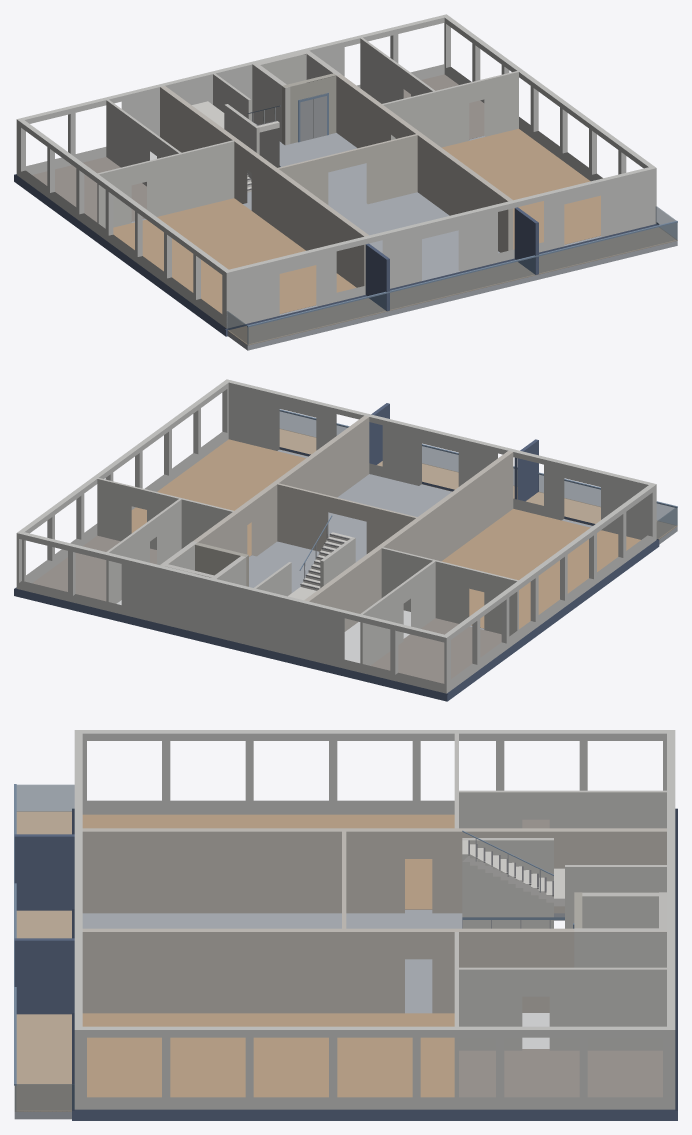
Rendered from office-floor.gaps-v1.lod0.glb.
3 renders of one model, top to bottom at view 1: azimuth 30°, elevation 25°; view 2: azimuth 150°, elevation 25°; view 3: azimuth 270°, elevation 25°, orthographic. The views are drawn at different scales.
Visible parts, largest first — view 1: office-floor; view 2: office-floor; view 3: office-floor.
Part boxes in pixels (<box>): office-floor: <box>14,14,677,350</box>; office-floor: <box>14,379,677,701</box>; office-floor: <box>14,730,677,1120</box>.
Bounding box in the file's own units: 26.2 × 4.89 × 24.32.
